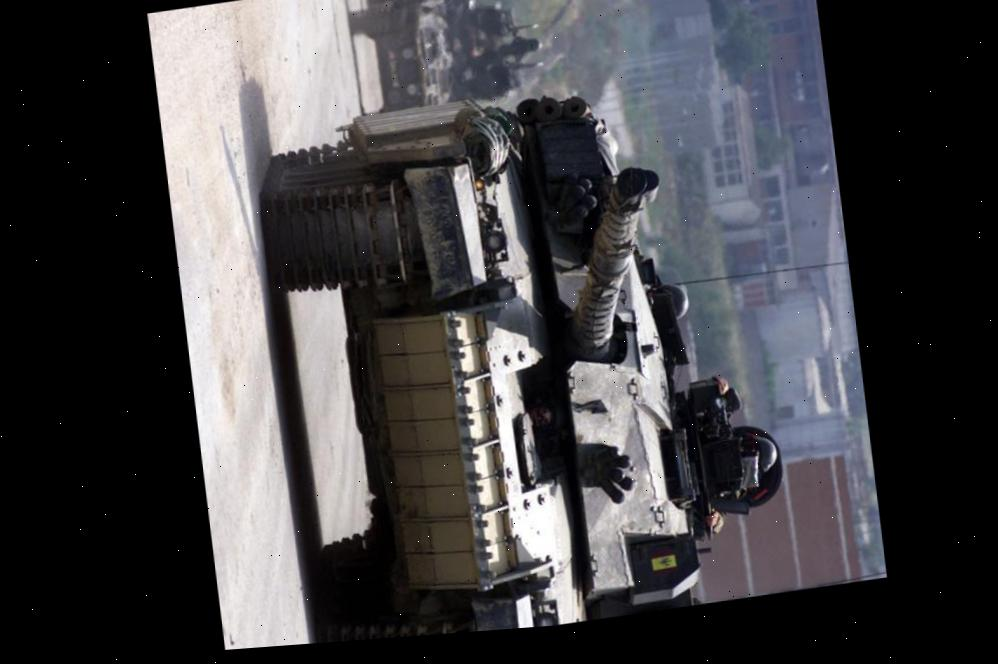tank: (240, 46, 805, 647), (345, 0, 523, 121), (355, 0, 480, 29)
